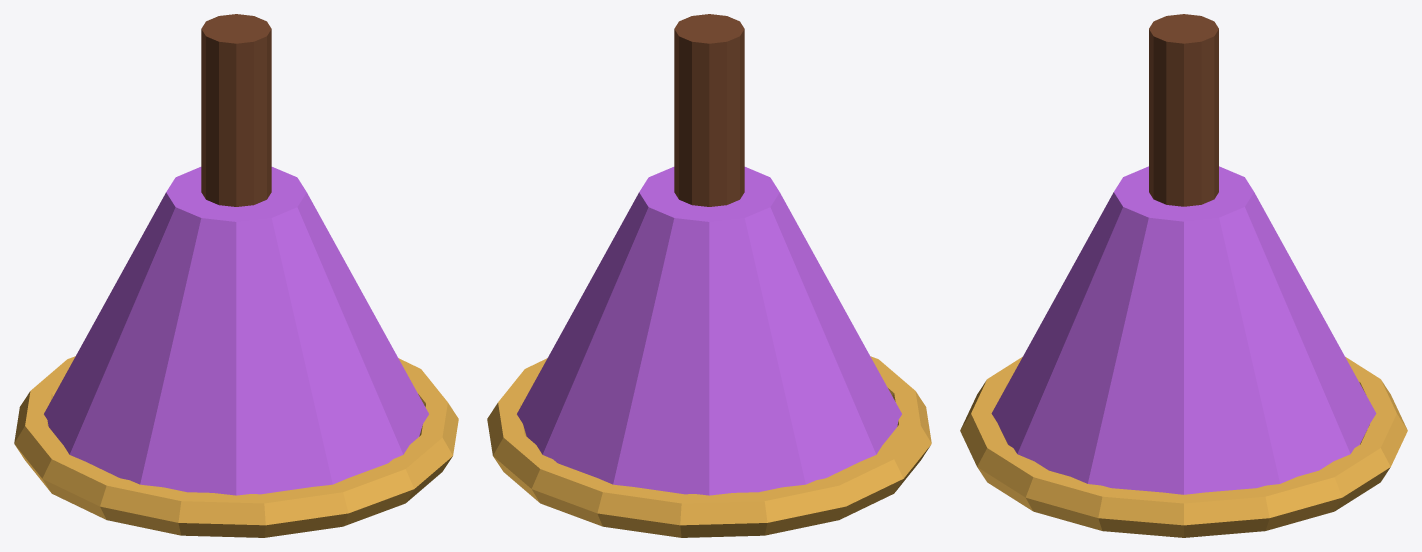
File: dream-bell-1.glb
The picture shows the model from 3 angles, left to right: view 1: azimuth 30°, elevation 25°; view 2: azimuth 150°, elevation 25°; view 3: azimuth 270°, elevation 25°; orthographic projection.
Visible parts, largest first — view 1: Cone, Torus.005, Cylinder; view 2: Cone, Torus.005, Cylinder; view 3: Cone, Torus.005, Cylinder.
Boxes of the visible parts, x1,y1,x2,y2 form: Cone: [44, 167, 428, 495]; Torus.005: [14, 356, 458, 537]; Cylinder: [201, 14, 271, 206]; Cone: [517, 167, 901, 495]; Torus.005: [487, 356, 931, 537]; Cylinder: [674, 14, 744, 206]; Cone: [991, 166, 1376, 494]; Torus.005: [960, 357, 1407, 537]; Cylinder: [1149, 14, 1218, 206].
Bounding box in the file's own units: 0.51 × 0.6 × 0.51.
